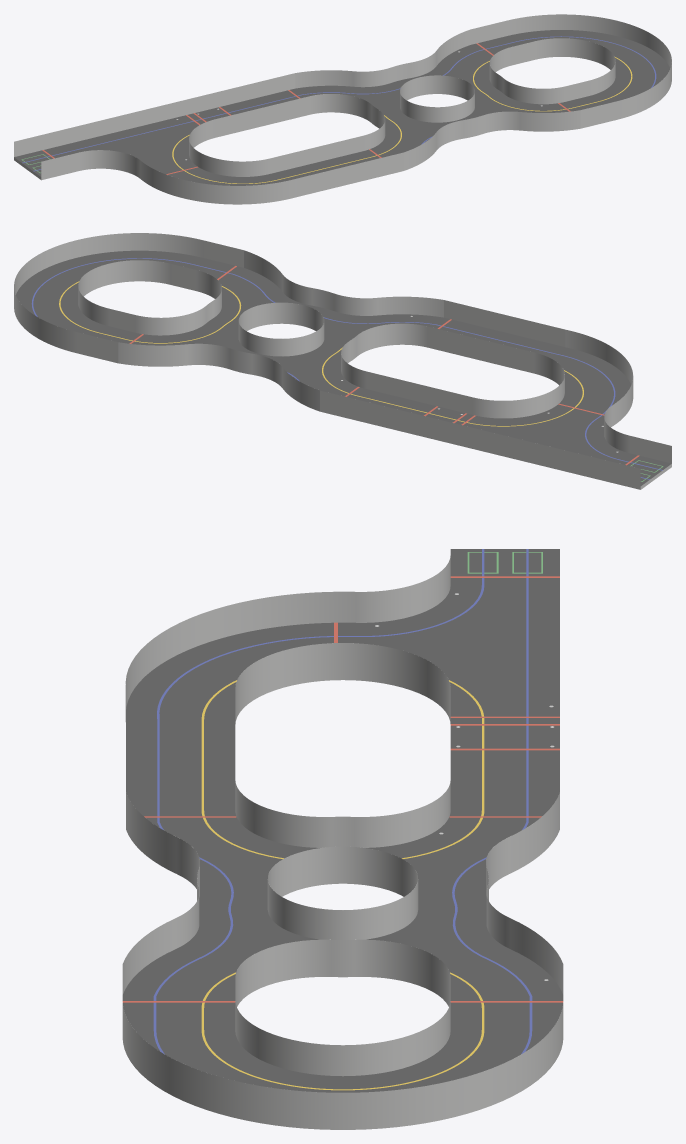
The model's file is Medium_roundabout.dae.
The picture shows the model from 3 angles, top to bottom: view 1: azimuth 30°, elevation 25°; view 2: azimuth 150°, elevation 25°; view 3: azimuth 270°, elevation 25°; orthographic projection. The views are drawn at different scales.
Visible parts, largest first — view 1: Medium Roundabout Export; view 2: Medium Roundabout Export; view 3: Medium Roundabout Export.
Boxes of the visible parts, left/top/right/bottom form: Medium Roundabout Export: left=14, top=14, right=671, bottom=204; Medium Roundabout Export: left=14, top=233, right=671, bottom=489; Medium Roundabout Export: left=122, top=549, right=563, bottom=1129.
Size of the model in its own units: 10.11 by 3.28 by 0.3048.
